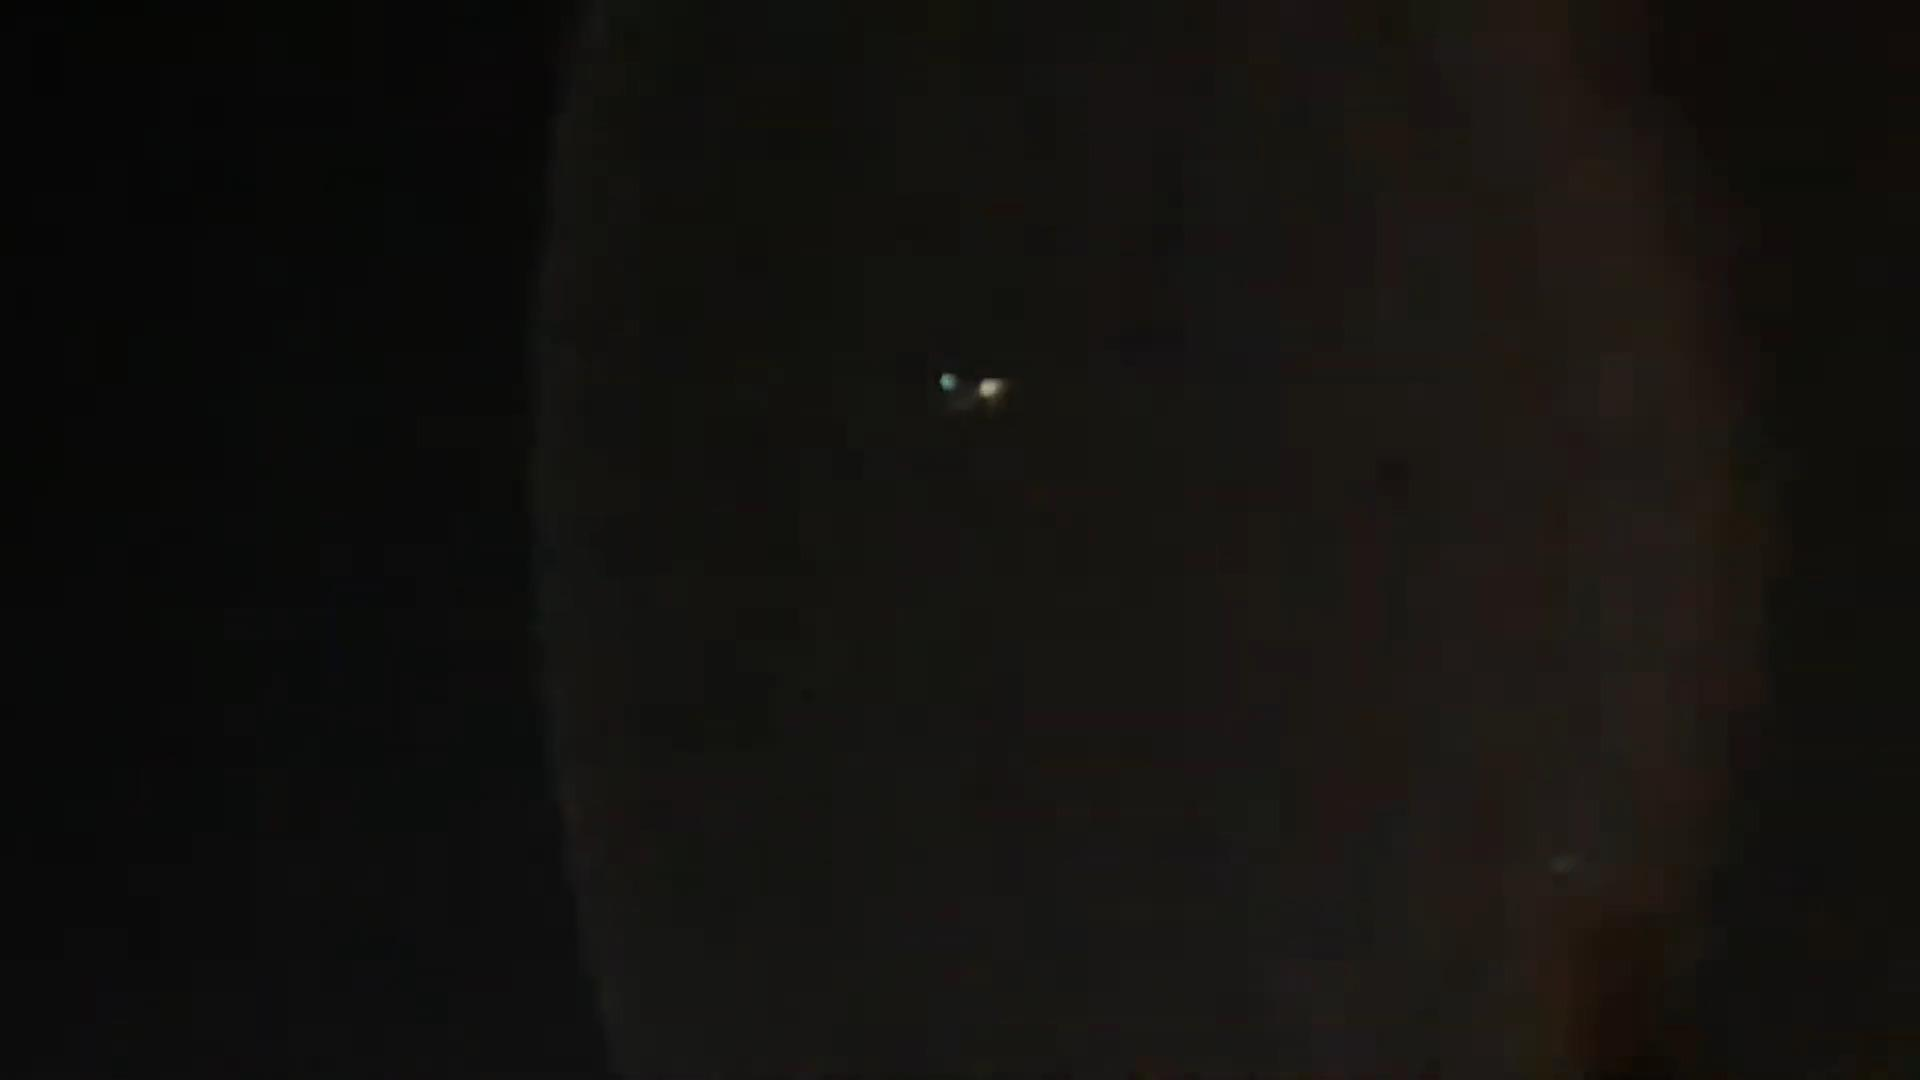Plane: (882, 353, 1065, 429)
